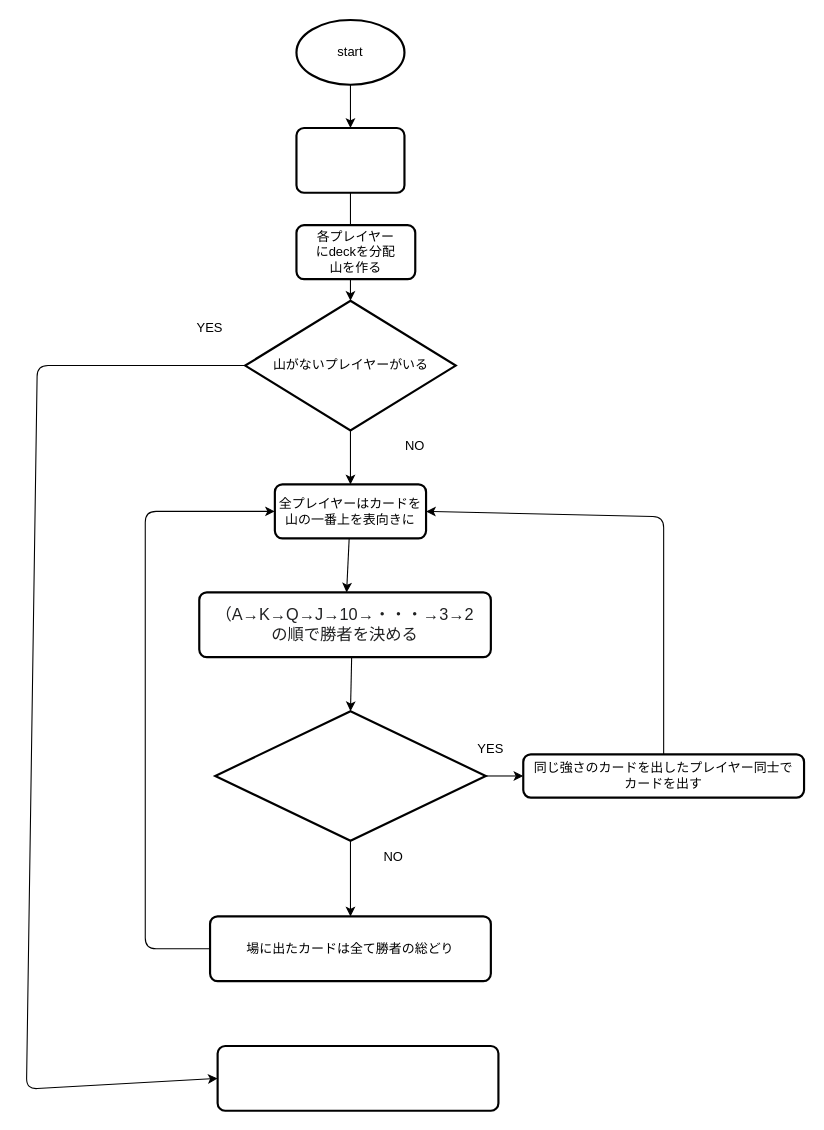
Some shapes in this 824 by 1130 pixel diagram are drawn without their labels. Each missing label, with the centre of its shape:
"deck,プレイヤー を描画" belongs at point (350, 159).
"取得したカードが多いプレイヤーの勝利 同スコアは同順位" belongs at point (357, 1077).
"最も強く、同じ強さのカードを だしたプレイヤーが複数いるか" belongs at point (350, 775).
